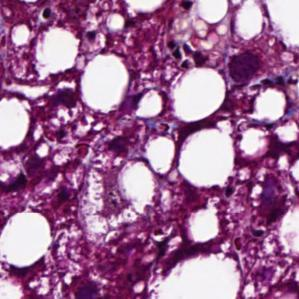inflammation: (13, 151, 64, 205), (221, 47, 267, 86), (46, 79, 82, 120), (102, 128, 141, 161)
